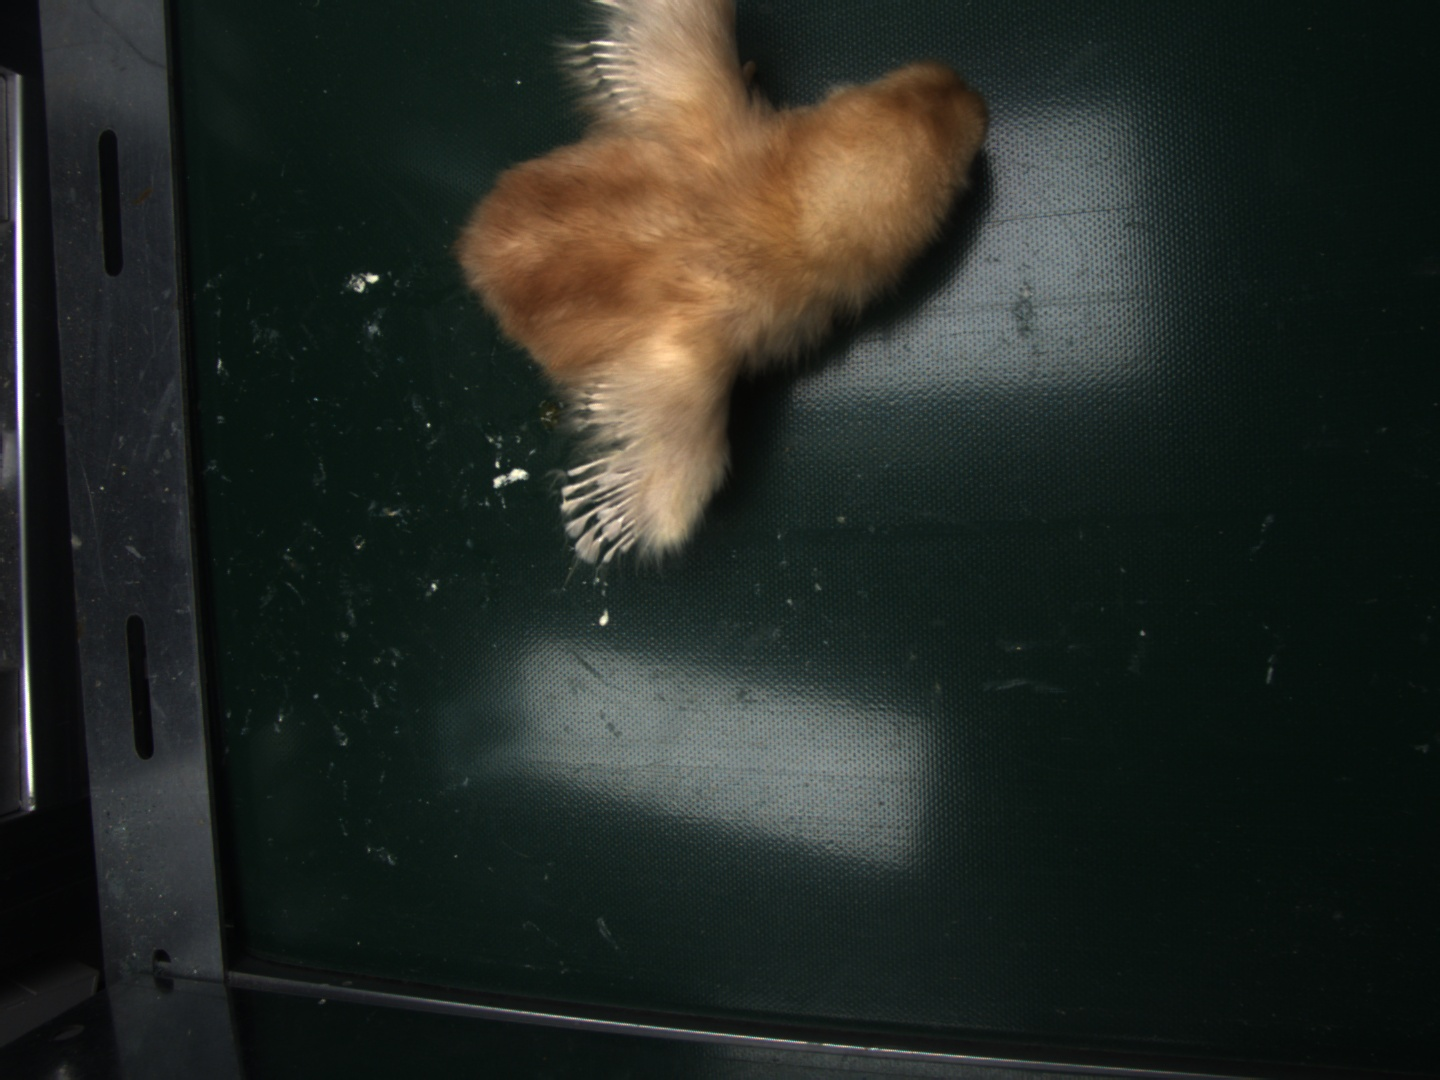female: (558, 454, 649, 563)
